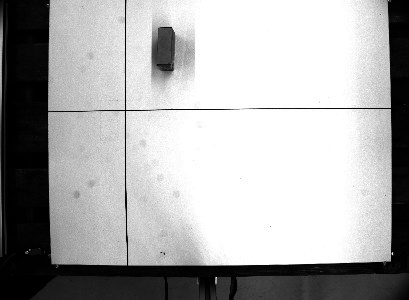b1: (154, 25, 177, 72)
